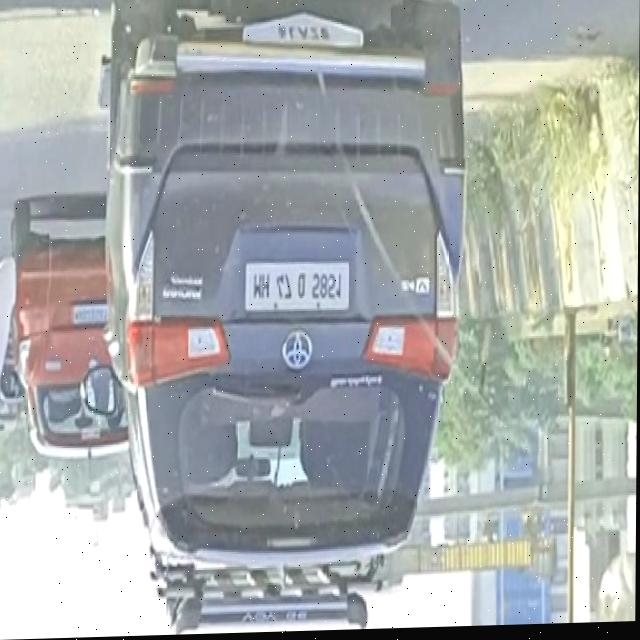plate: (245, 257, 352, 319)
